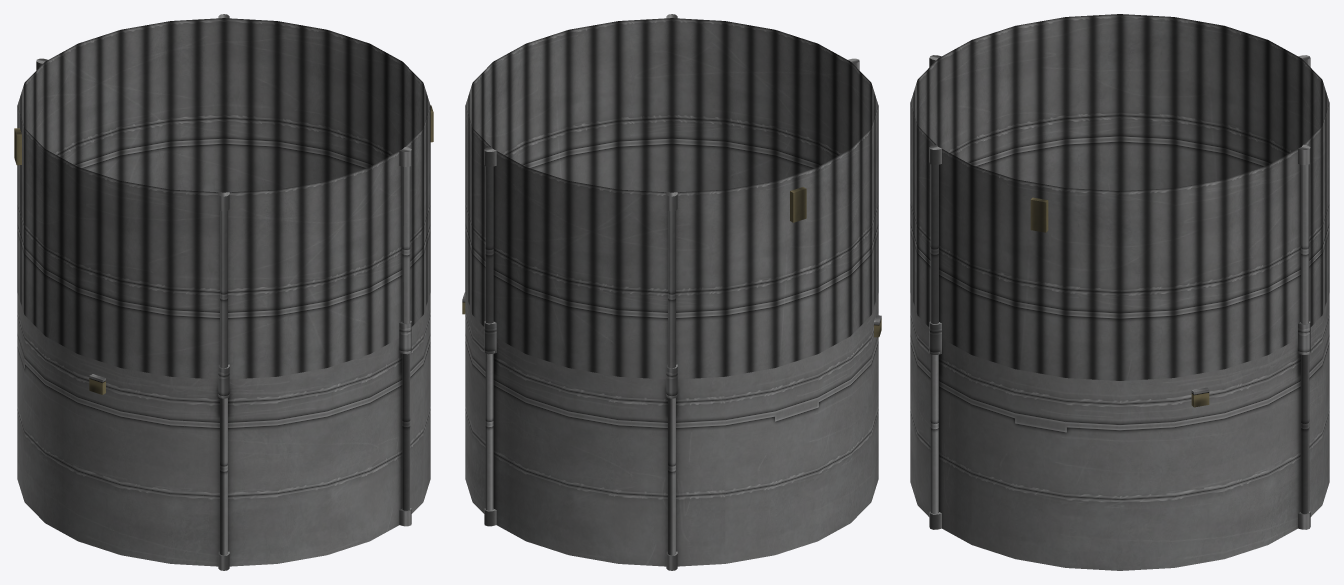
Rendered from blue_streak_fuel_tank_s1p5_2_alt.obj.
3 views of the same model, side by side, from view 1: azimuth 30°, elevation 25°; view 2: azimuth 150°, elevation 25°; view 3: azimuth 270°, elevation 25° (orthographic).
Visible parts, largest first — view 1: mesh2; view 2: mesh2; view 3: mesh2.
Part boxes in pixels (<box>): mesh2: <box>14,14,433,570</box>; mesh2: <box>462,14,881,570</box>; mesh2: <box>910,14,1329,570</box>.
Bounding box in the file's own units: 1.88 × 1.88 × 1.88.
